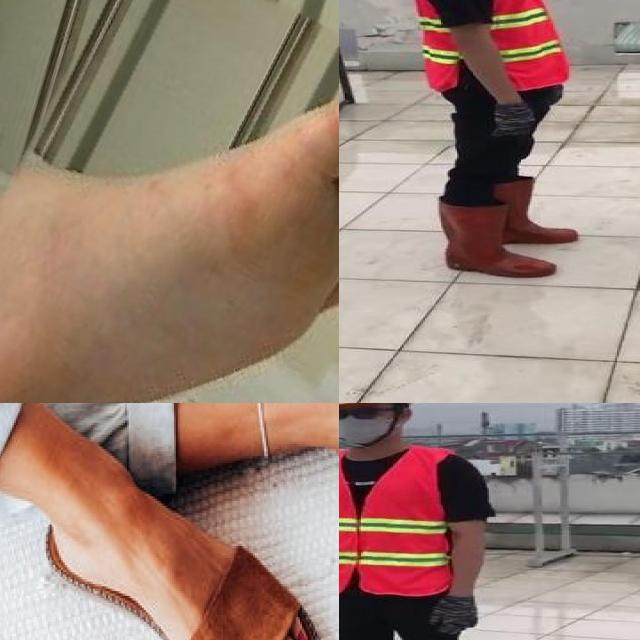Barefoots: (0, 81, 339, 403)
Sandals: (25, 426, 332, 640)
boots: (435, 200, 554, 280), (496, 178, 580, 247)
face_mask: (339, 403, 395, 445)
glasses: (339, 405, 387, 424)
hand_glove: (427, 595, 485, 637), (490, 104, 548, 138)
person: (398, 0, 593, 286), (339, 403, 505, 640)
vest: (339, 443, 453, 595), (411, 0, 569, 90)
